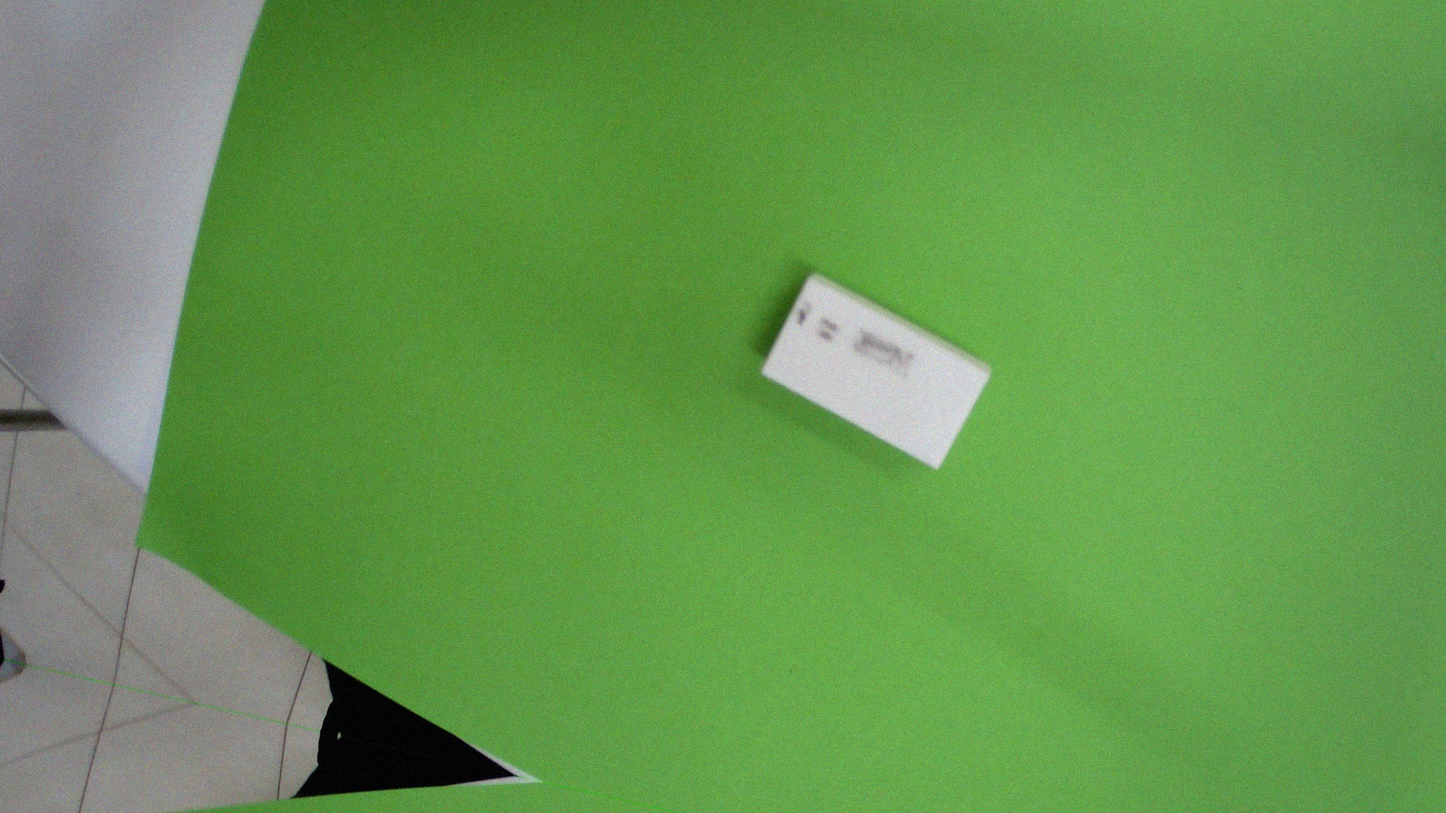gom: (736, 259, 1005, 477)
